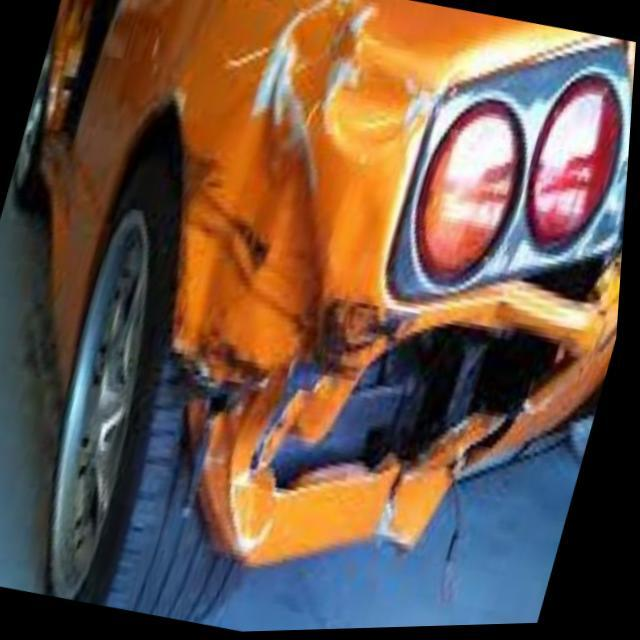dislocated part: (174, 0, 637, 576)
